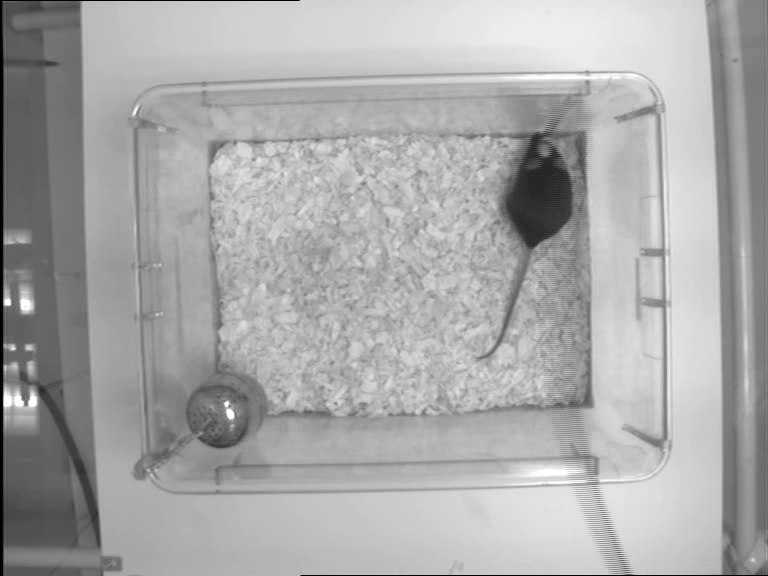mice: (476, 130, 573, 363)
